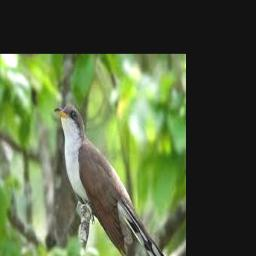Cuckoo: (54, 106, 173, 256)
